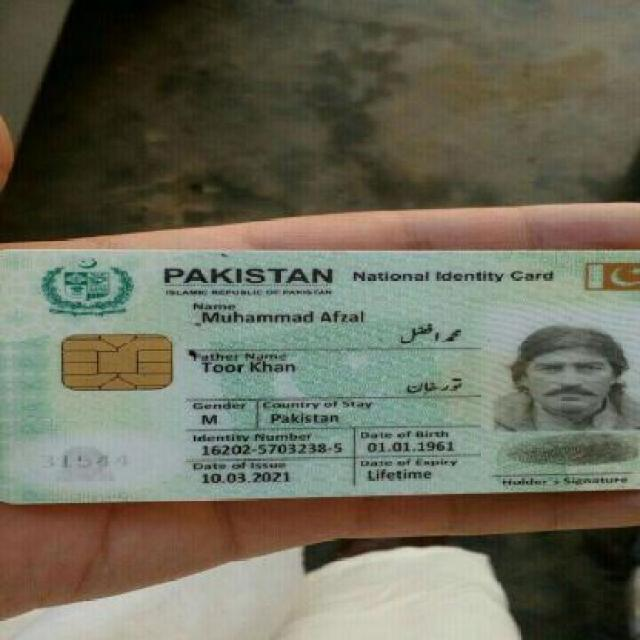Front: (0, 240, 638, 500)
